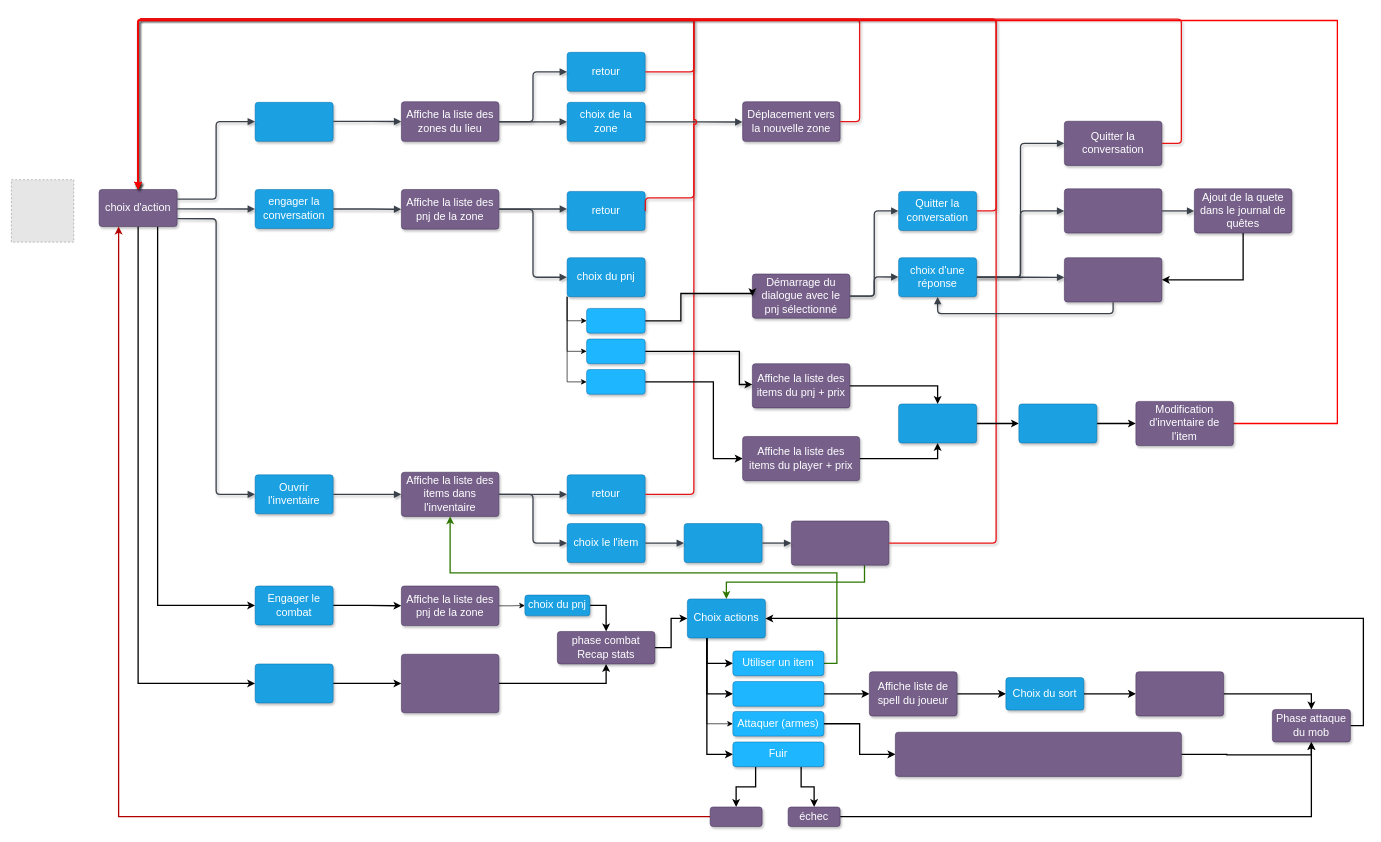
This 1381x842 diagram has some shape labels left out. Grey dashed boxes stand in for pictures. Here are the shapes that lost their labels. From the top down, the centre of each, then its label:
point (294, 122): changer de zones
point (1113, 212): Attribution d'une quete
point (1113, 280): Réponse du PNJ
point (616, 321): Parler
point (616, 352): Acheter
point (616, 382): Vendre
point (937, 424): Sélection Item
point (1058, 424): Confirmation de séléction
point (723, 543): Confirmation d'utilisation
point (840, 544): Application de l'effet de l'item
point (294, 684): Fouiller les environs
point (450, 684): initie un combat contre un mob du bestiaire de la zone
point (779, 694): Lancer un sort
point (1180, 694): Applique les effets du sort
point (1038, 755): Applique les dégats
point (736, 817): réussite
